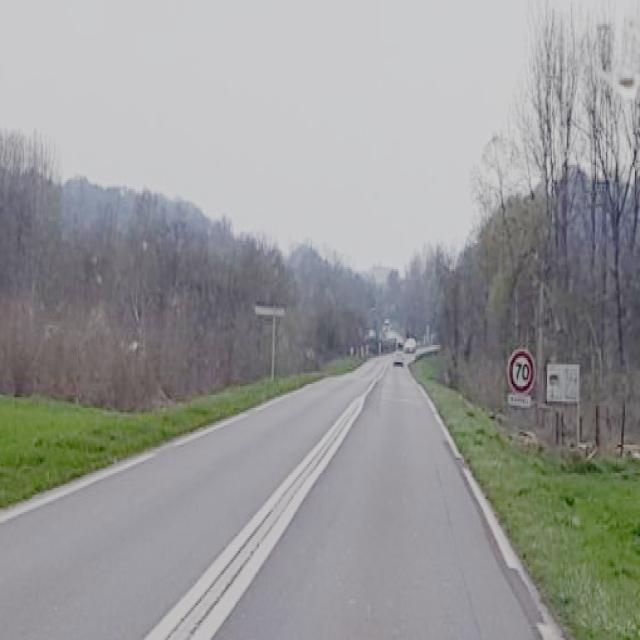speed_70: (509, 351, 534, 393)
